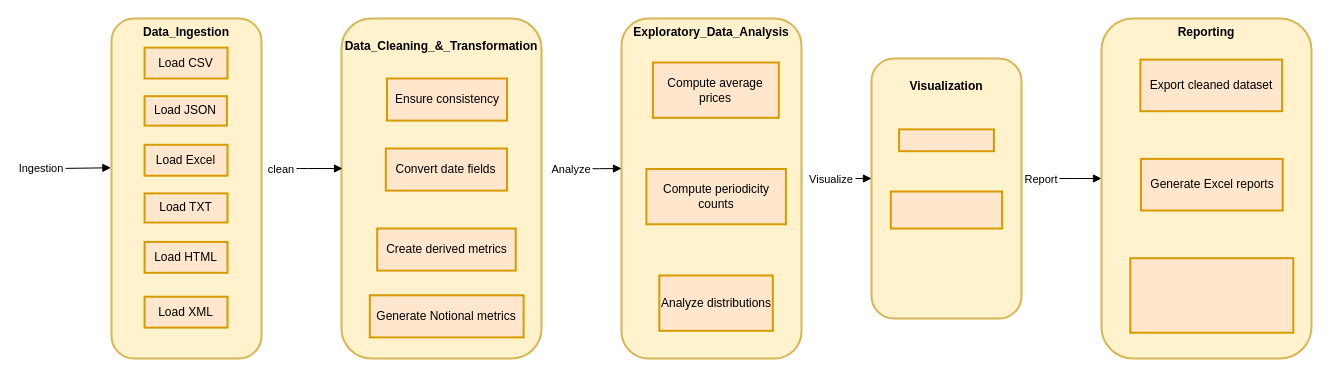
Image size: 1329x376. Some labels were removed from this diagram. The centre of each missing label's shape, as x and y in pixels:
"Generate charts" belongs at [946,140].
"Generate Markdown reports" belongs at [1211,295].
"Save charts as images" belongs at [946,209].
